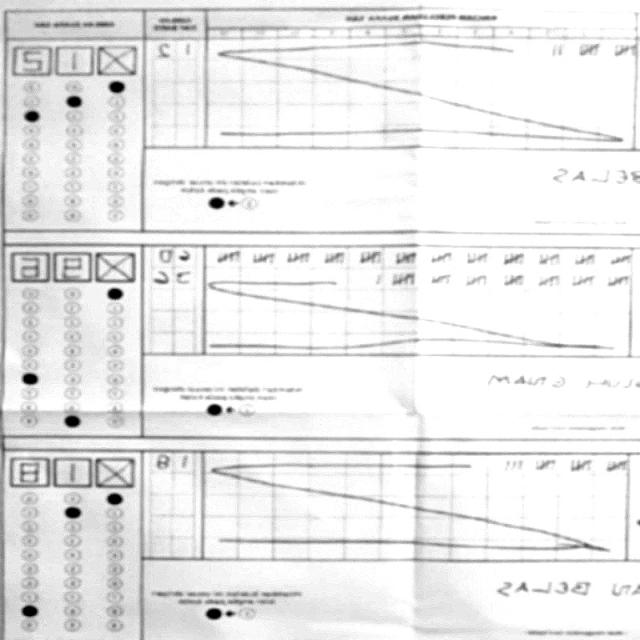Suara: (7, 36, 144, 82), (5, 448, 142, 494), (7, 244, 141, 286)
